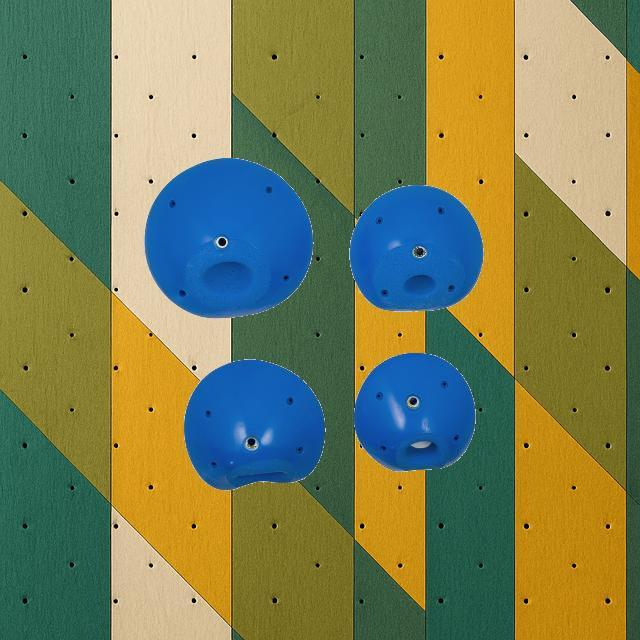Pocket: (144, 158, 314, 318), (182, 359, 326, 491), (348, 184, 484, 310), (352, 352, 476, 472)
